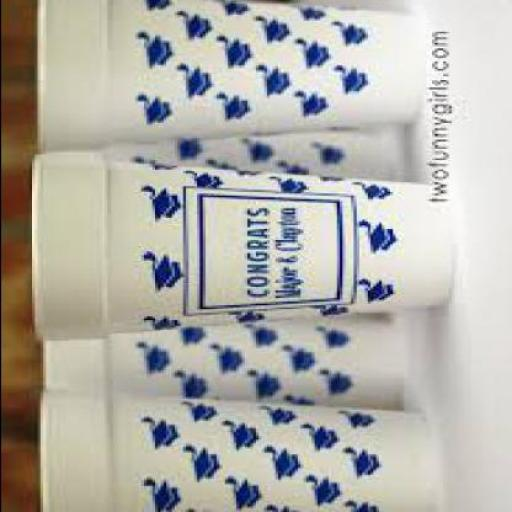paper: (28, 152, 442, 344), (33, 2, 417, 157), (32, 401, 439, 511), (36, 309, 397, 413), (92, 125, 409, 184)
